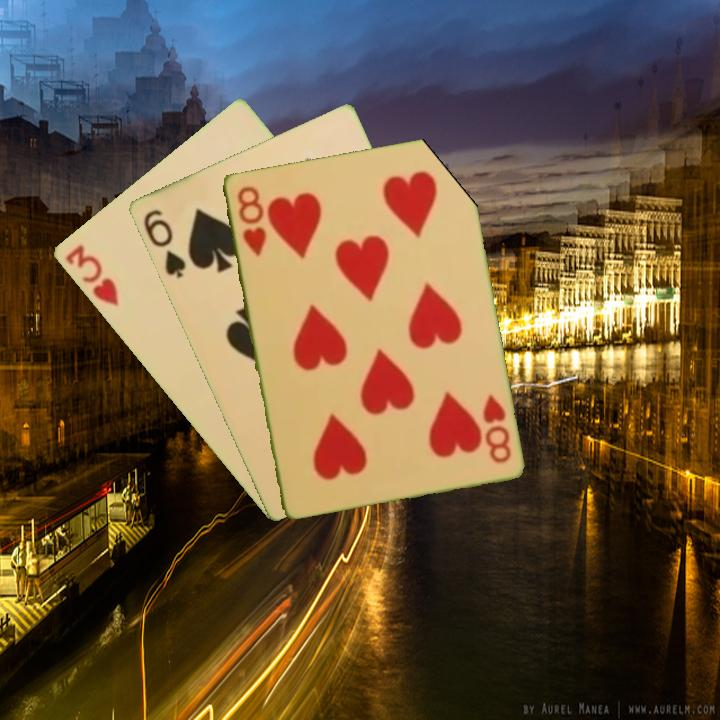3h: (60, 241, 121, 309)
6s: (139, 205, 189, 281)
8h: (233, 182, 269, 259), (478, 390, 514, 466)
